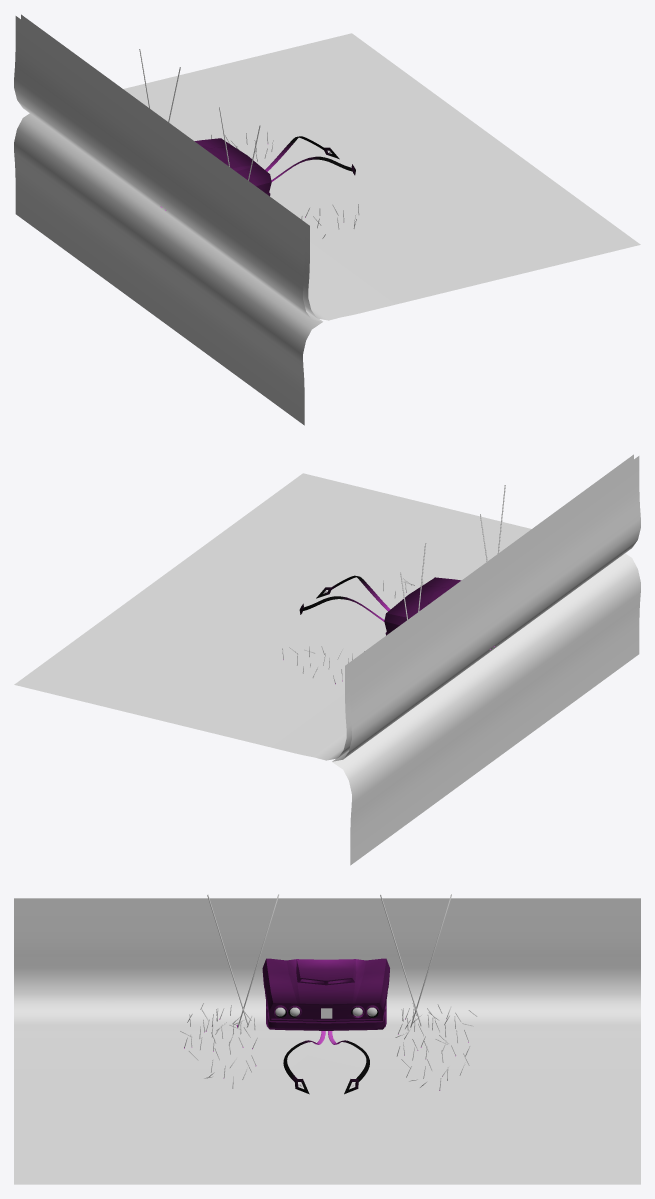
Rendered from Evelynn Dance Stage GameReady.fbx.
3 views of the same model, one above another, from view 1: azimuth 30°, elevation 25°; view 2: azimuth 150°, elevation 25°; view 3: azimuth 270°, elevation 25° (orthographic). The views are drawn at different scales.
Visible parts, largest first — view 1: Plane.007, G, Plane.006, Cube.003, Cylinder.102; view 2: Plane.007, G, Plane.006, Cube.003, Cylinder.102; view 3: Plane.007, Cube.003, Plane.006, Cylinder.102, G.
Part boxes in pixels (x1,y1,x2,y2): Plane.007: (21, 14, 640, 320); G: (14, 16, 322, 425); Plane.006: (261, 159, 374, 204); Cube.003: (160, 136, 355, 210); Cylinder.102: (139, 49, 359, 238); Plane.007: (14, 454, 633, 760); G: (332, 456, 640, 865); Plane.006: (263, 592, 386, 653); Cube.003: (299, 575, 494, 649); Cylinder.102: (282, 485, 505, 683); Plane.007: (14, 901, 640, 1184); Cube.003: (262, 958, 389, 1094); Plane.006: (253, 1055, 407, 1124); Cylinder.102: (180, 894, 477, 1090); G: (14, 898, 640, 901).
Size of the model in its own units: 14623 by 10285 by 21666.
